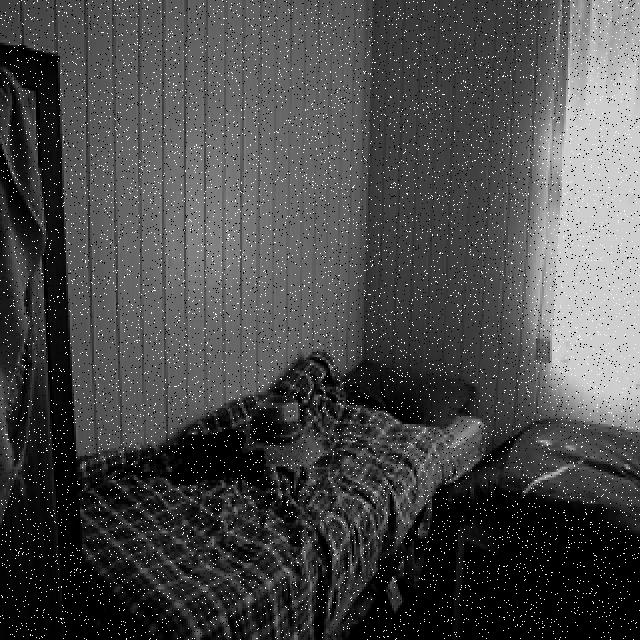bed: (65, 347, 496, 640)
